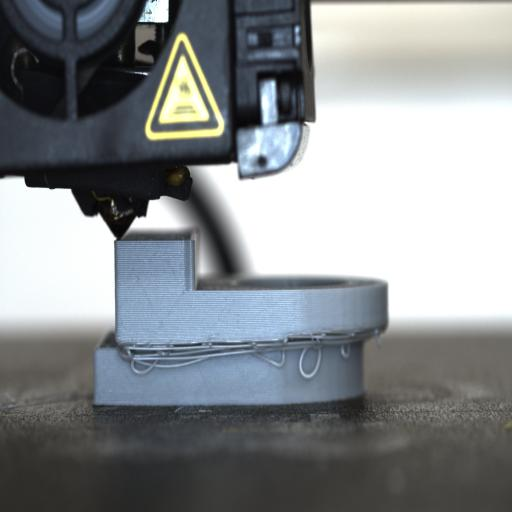layer_shift: (93, 327, 387, 354)
